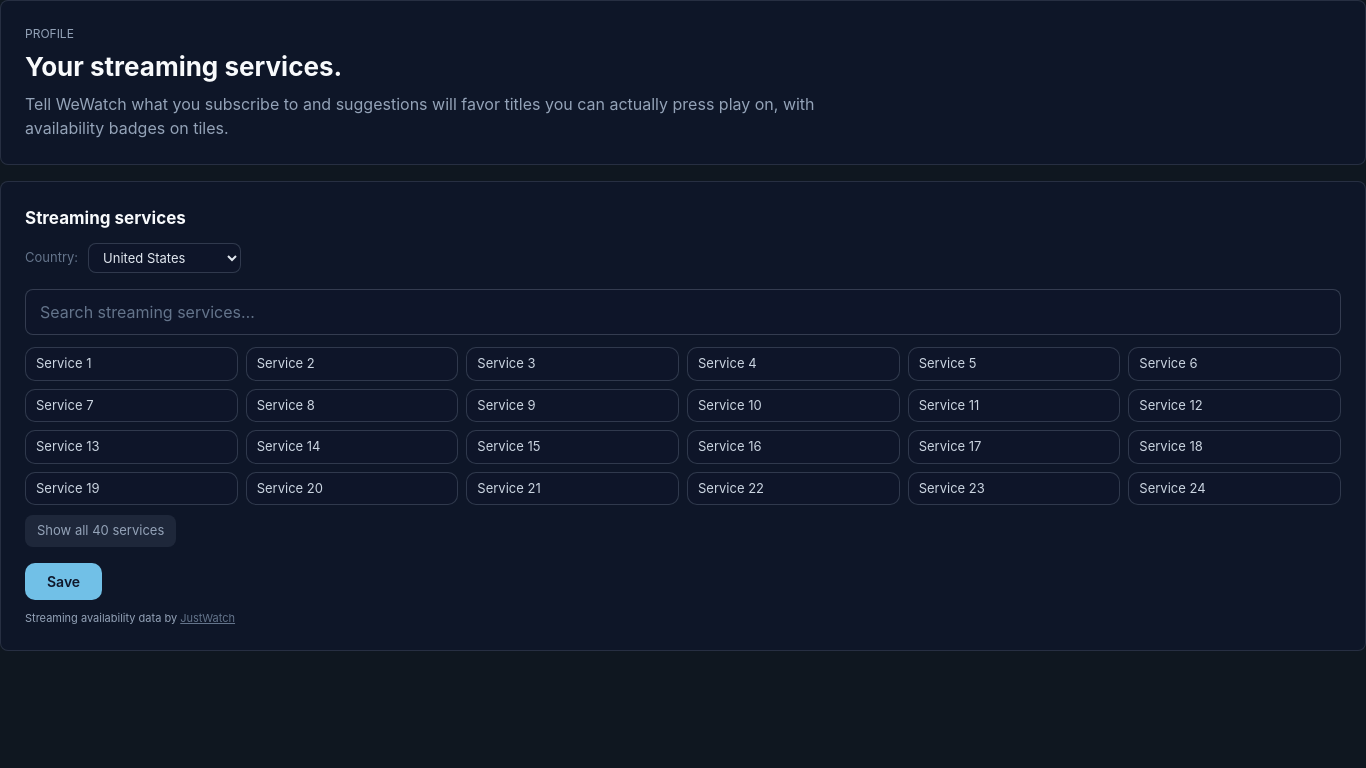
ProfilePage streaming service search (#299) › shows an empty-state message when the query matches nothing
Expected: the element named "Streaming services" is shown, x1=25 y1=347 x2=1341 y2=505
Step 1. Type "nonexistent" into the search field with placeholder "Search streaming services…" → {"x": 683, "y": 312}, box x1=25 y1=289 x2=1341 y2=335
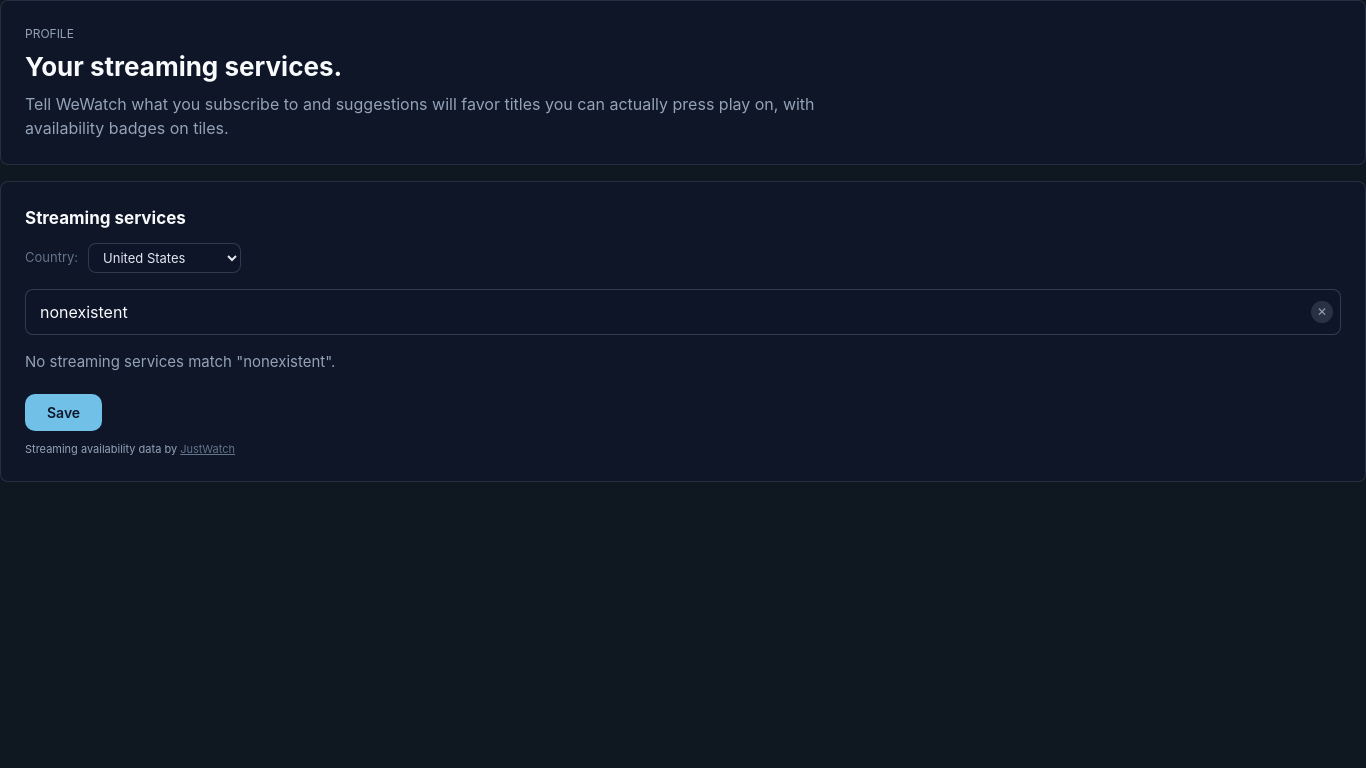
Result: the text "No streaming services match \"nonexistent\"." is shown at x1=25 y1=352 x2=335 y2=371
